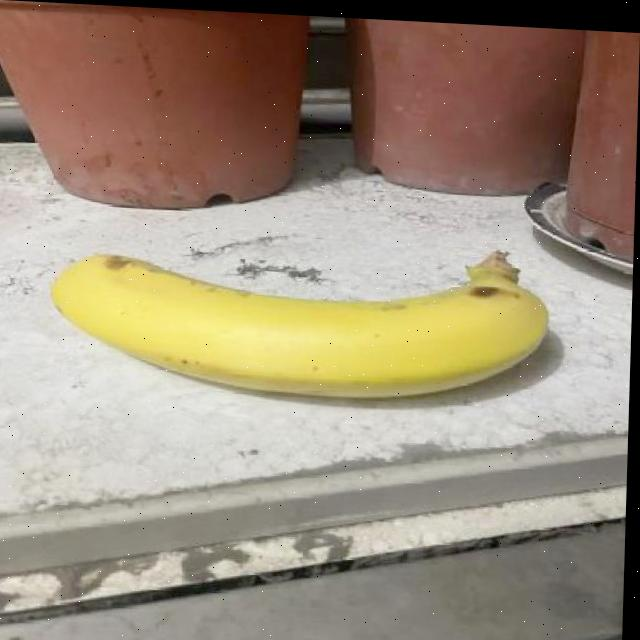banana: (46, 221, 565, 417)
